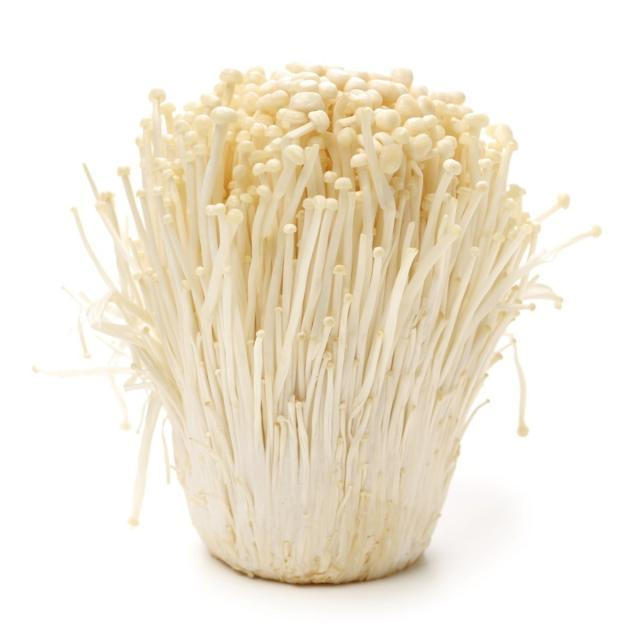Flammulina velutiper: (71, 65, 603, 584)
